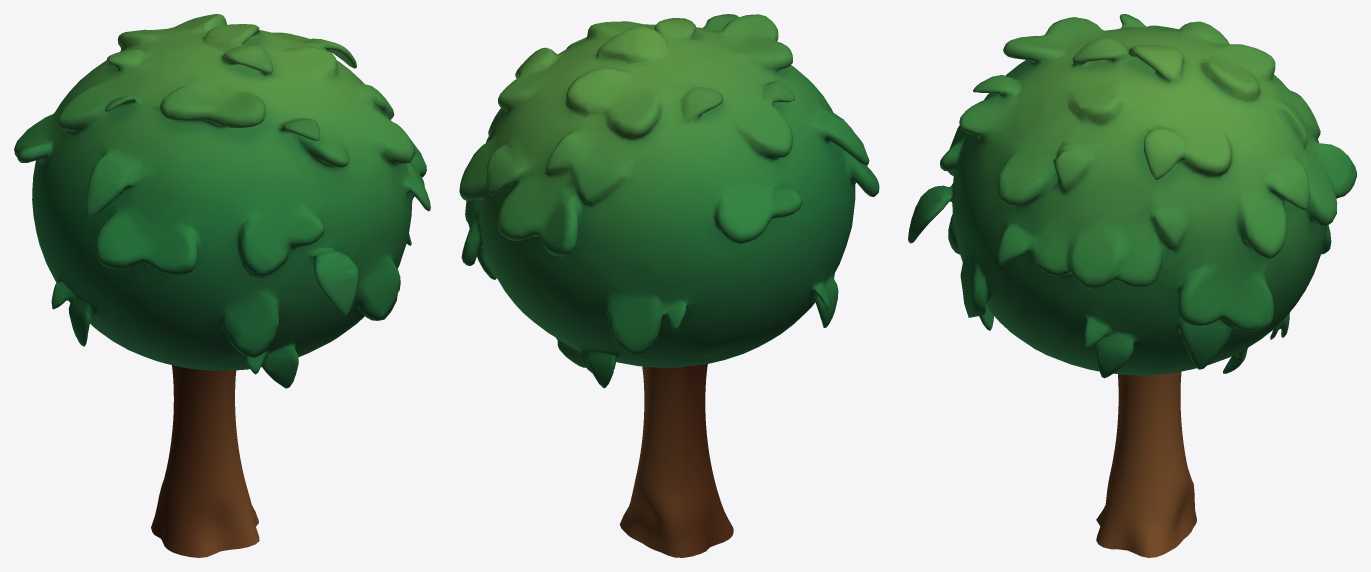
Rendered from casual_tree_003.fbx.
3 renders of one model, left to right at view 1: azimuth 30°, elevation 25°; view 2: azimuth 150°, elevation 25°; view 3: azimuth 270°, elevation 25°, orthographic.
Visible parts, largest first — view 1: tree_casual_03.007; view 2: tree_casual_03.007; view 3: tree_casual_03.007.
Boxes of the visible parts, x1,y1,x2,y2 form: tree_casual_03.007: (14, 14, 430, 557); tree_casual_03.007: (459, 14, 879, 557); tree_casual_03.007: (908, 14, 1356, 557).
Size of the model in its own units: 516 by 698 by 567.
